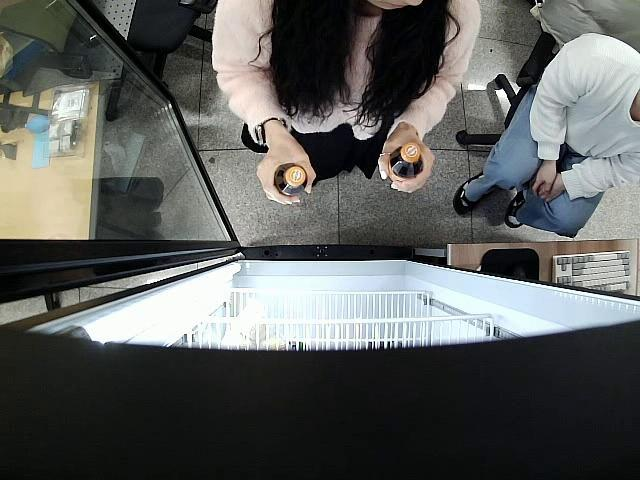17_vita500: (386, 142, 422, 186), (276, 163, 308, 198)
